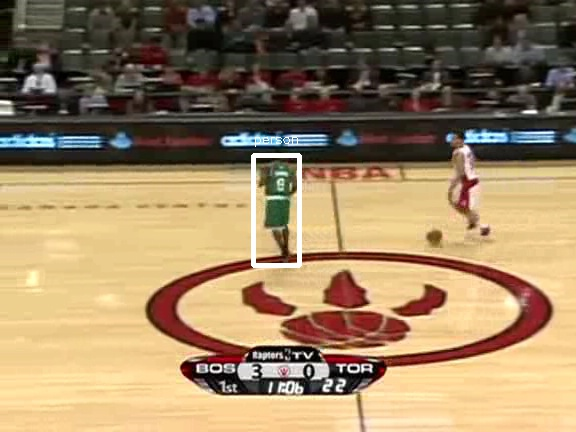person: (264, 156, 298, 237), (263, 156, 297, 237), (265, 156, 299, 237), (264, 155, 298, 236), (264, 157, 298, 238)
target_negative: (123, 230, 322, 348), (453, 254, 546, 348), (26, 84, 208, 127), (424, 14, 476, 120), (282, 284, 362, 331)
